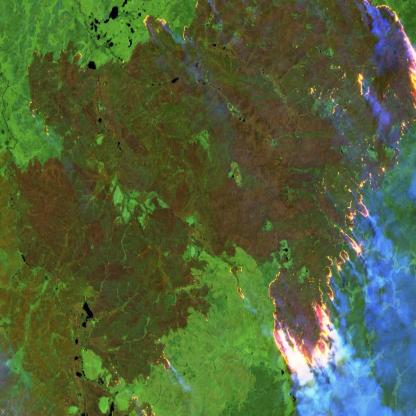fire: (267, 0, 416, 416), (138, 6, 195, 46), (150, 338, 180, 382), (224, 259, 250, 308)
